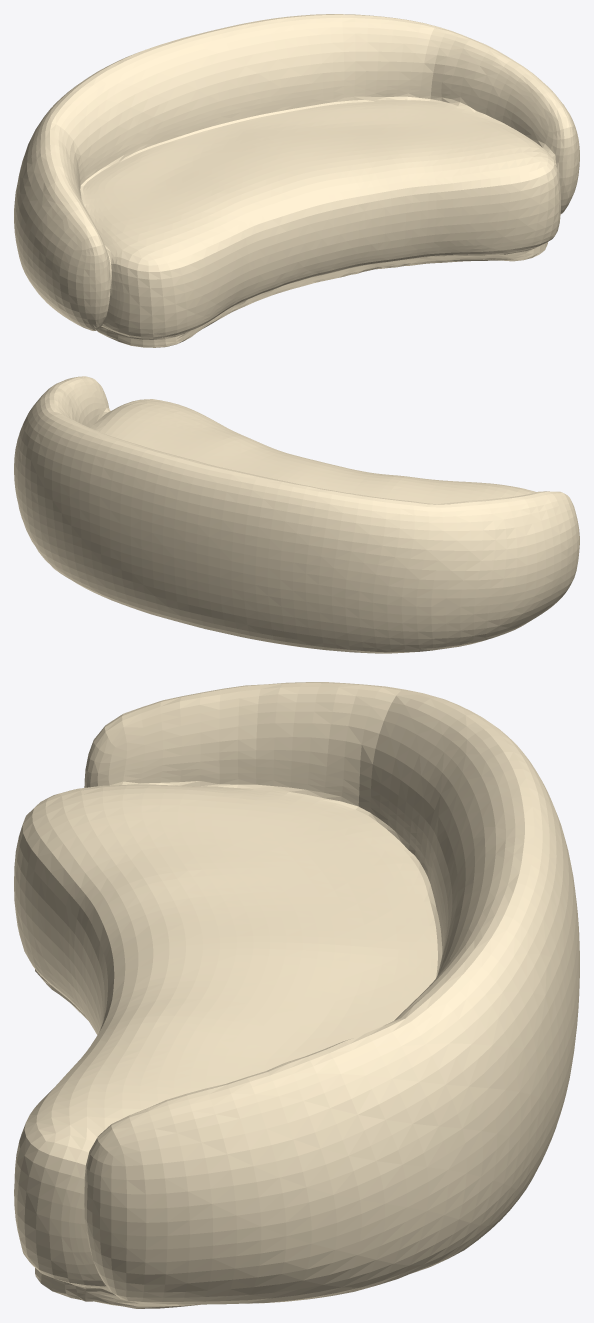
The model's file is meredianemery-velvet-sofa-cream-sofa.glb.
The picture shows the model from 3 angles, top to bottom: view 1: azimuth 30°, elevation 25°; view 2: azimuth 150°, elevation 25°; view 3: azimuth 270°, elevation 25°; orthographic projection. The views are drawn at different scales.
Visible parts, largest first — view 1: tripo_node_8c87a4f9-e218-4f54-ad77-3b0cedde498b; view 2: tripo_node_8c87a4f9-e218-4f54-ad77-3b0cedde498b; view 3: tripo_node_8c87a4f9-e218-4f54-ad77-3b0cedde498b.
Boxes of the visible parts, x1,y1,x2,y2 form: tripo_node_8c87a4f9-e218-4f54-ad77-3b0cedde498b: (14,14,579,347); tripo_node_8c87a4f9-e218-4f54-ad77-3b0cedde498b: (14,376,579,653); tripo_node_8c87a4f9-e218-4f54-ad77-3b0cedde498b: (14,682,579,1308).
Size of the model in its own units: 3.35 by 1.03 by 1.79.
1 material, 1 textured.
